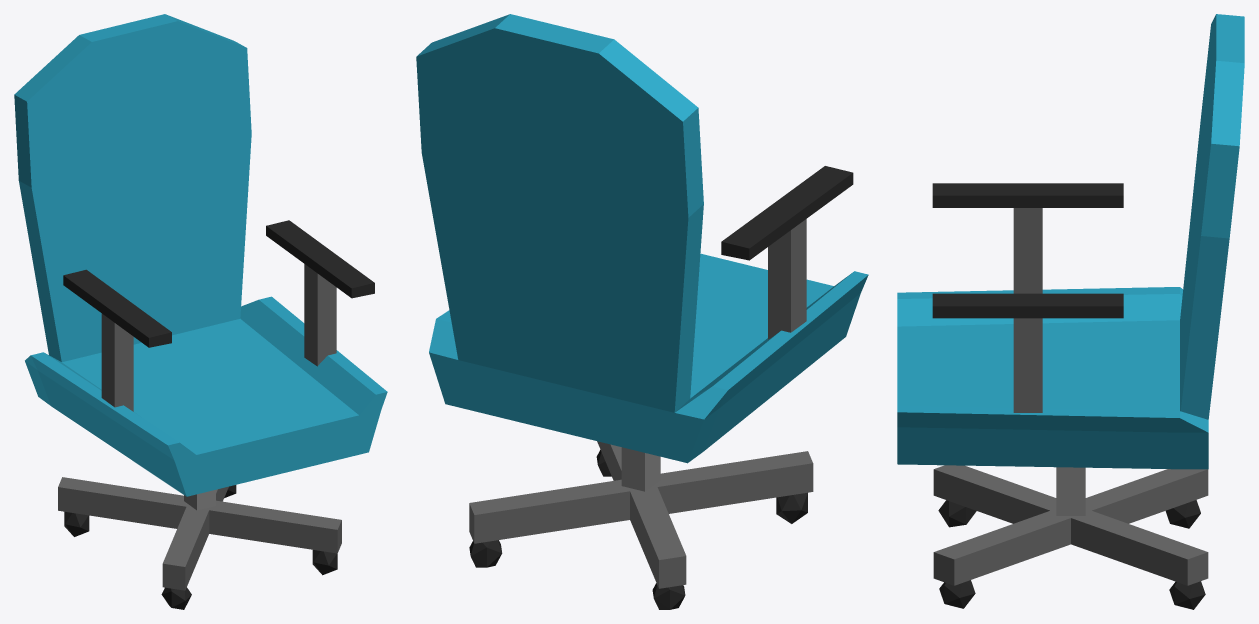
File: Chair_Blue.fbx
3 views of the same model, side by side, from view 1: azimuth 30°, elevation 25°; view 2: azimuth 150°, elevation 25°; view 3: azimuth 270°, elevation 25° (orthographic). The views are drawn at different scales.
Parts seen in each view (by area): view 1: Chair_Blue; view 2: Chair_Blue; view 3: Chair_Blue.
Boxes of the visible parts, box(x1,y1,x2,y2) form: Chair_Blue: box(14, 14, 387, 609); Chair_Blue: box(416, 14, 868, 609); Chair_Blue: box(897, 14, 1244, 609).
Size of the model in its own units: 52.6 by 98.72 by 58.86.
